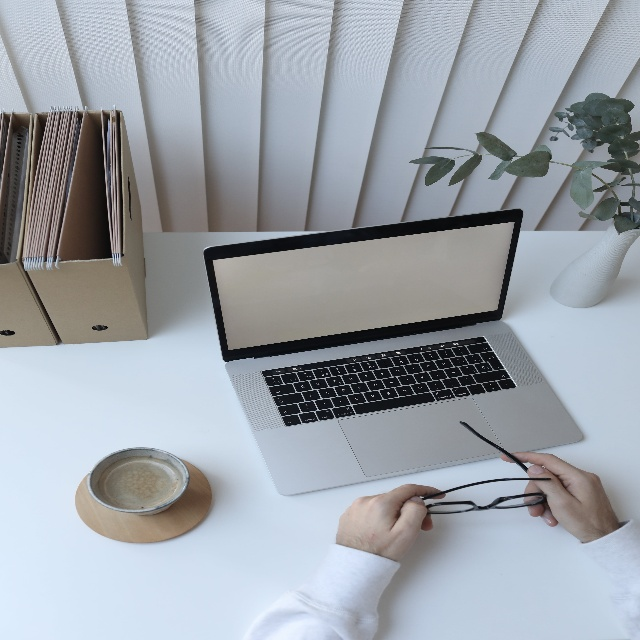Gafas: (422, 421, 551, 514)
Sin_guantes: (500, 451, 620, 544), (335, 482, 446, 561)
